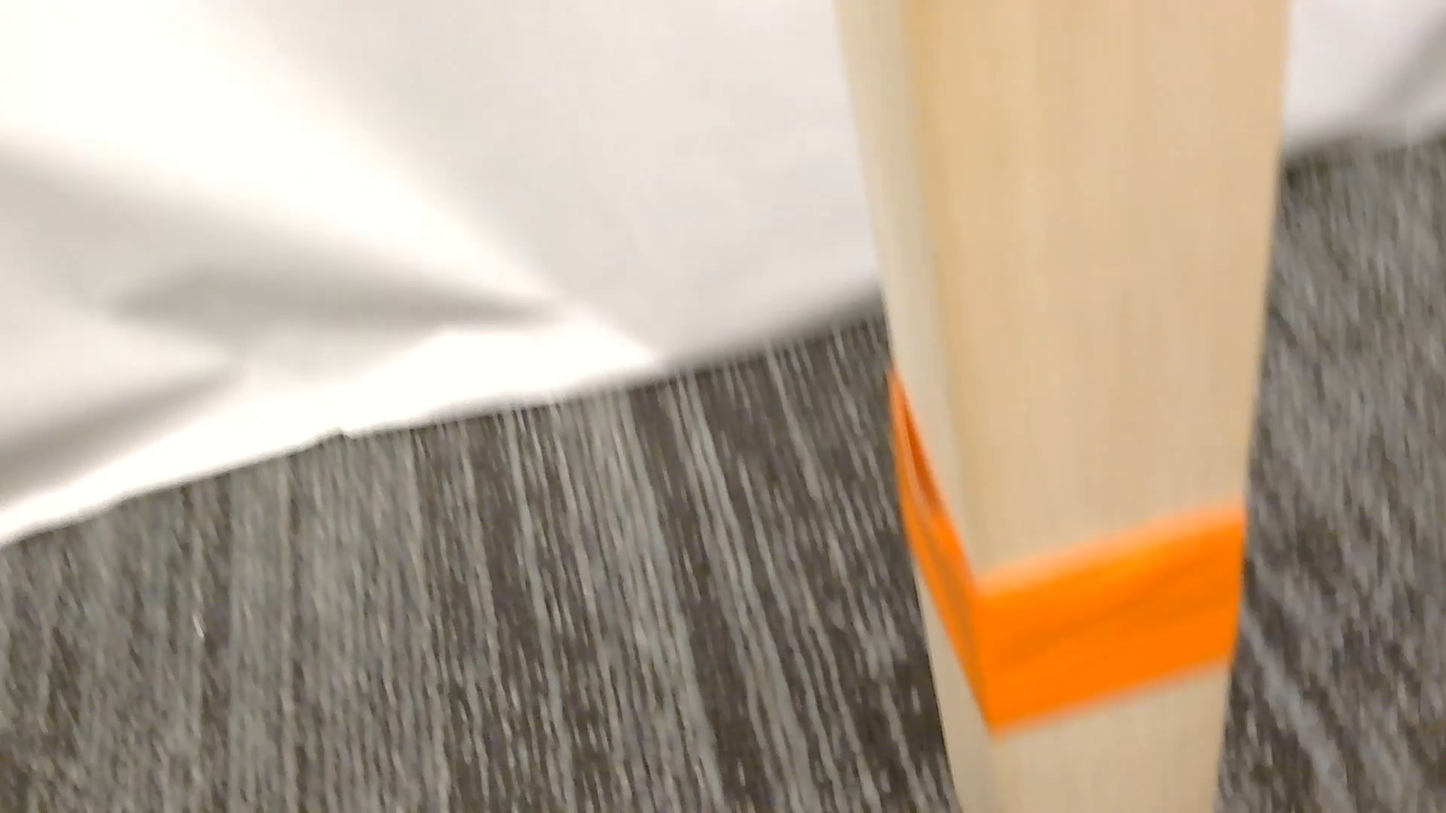Wooden Block: (834, 0, 1289, 812)
